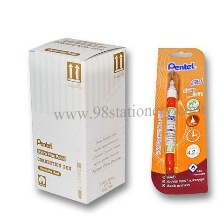book: (26, 35, 128, 206), (148, 45, 210, 196)
correction_fluid: (162, 69, 182, 176)
